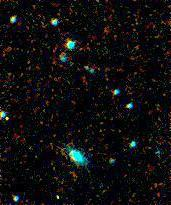star: (44, 181, 74, 205)
